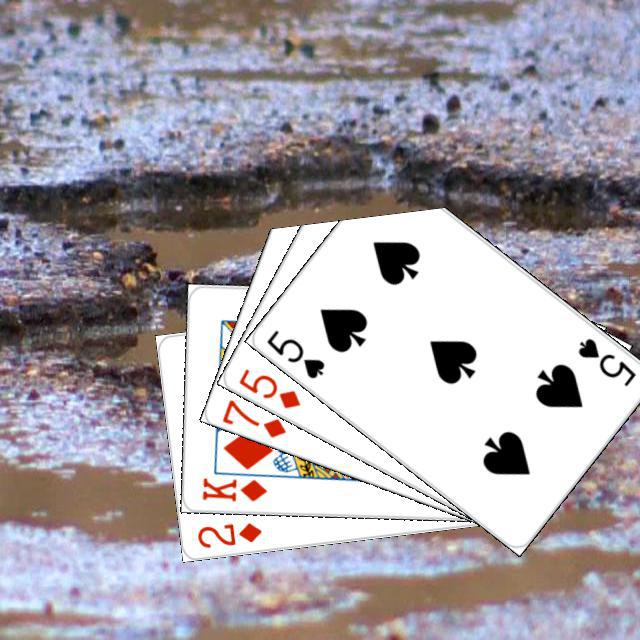2d: (192, 517, 264, 550)
5d: (234, 363, 302, 411)
5s: (261, 324, 327, 381), (572, 333, 638, 389)
7d: (218, 394, 288, 440)
Kd: (197, 472, 268, 503)
